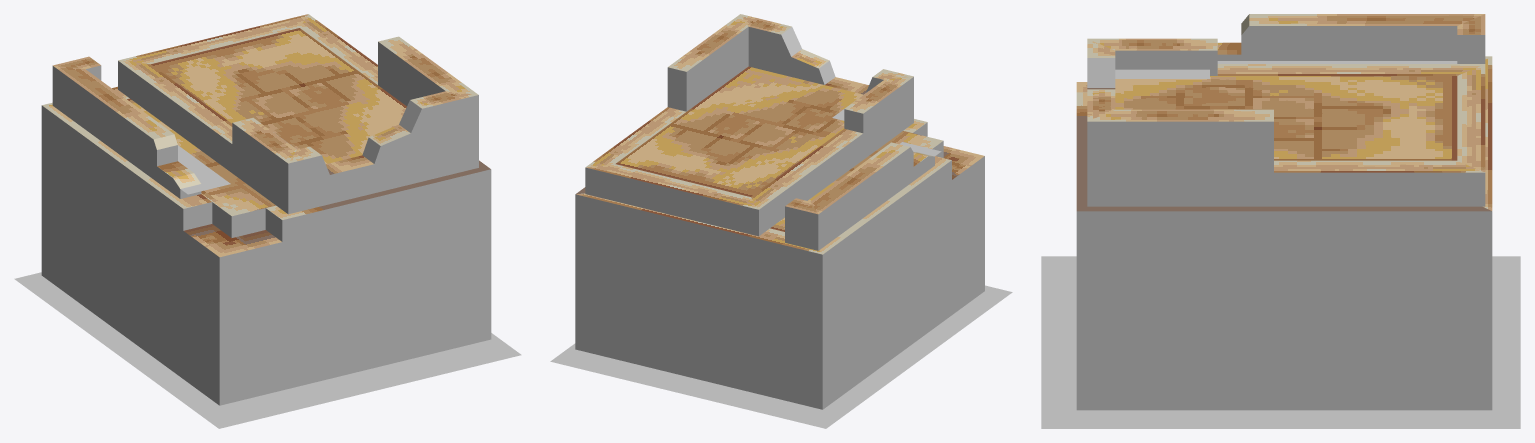
File: r4_ruins_02.dae
The picture shows the model from 3 angles, left to right: view 1: azimuth 30°, elevation 25°; view 2: azimuth 150°, elevation 25°; view 3: azimuth 270°, elevation 25°; orthographic projection. The views are drawn at different scales.
Visible parts, largest first — view 1: r4_ruins_02; view 2: r4_ruins_02; view 3: r4_ruins_02.
Part boxes in pixels (x1,y1,x2,y2): r4_ruins_02: (14,14,521,428); r4_ruins_02: (550,14,1012,428); r4_ruins_02: (1041,14,1520,428).
Size of the model in its own units: 116 by 92.05 by 136.
